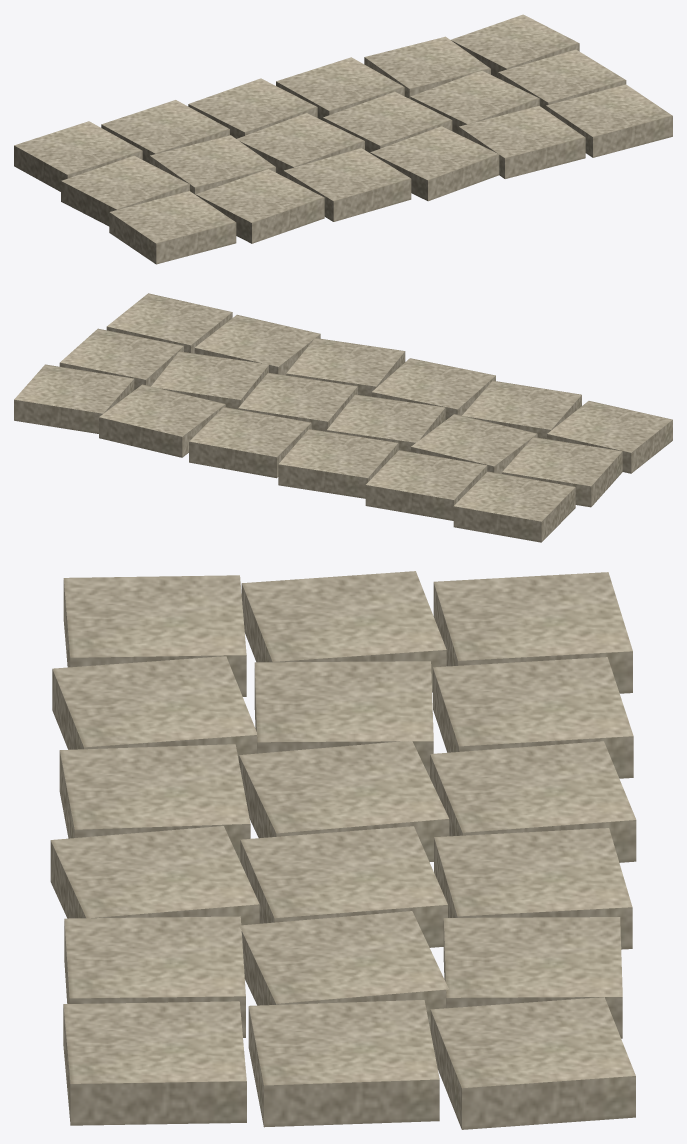
The model's file is roadStones.glb.
3 renders of one model, top to bottom at view 1: azimuth 30°, elevation 25°; view 2: azimuth 150°, elevation 25°; view 3: azimuth 270°, elevation 25°, orthographic. The views are drawn at different scales.
Visible parts, largest first — view 1: part_0; view 2: part_0; view 3: part_0.
Part boxes in pixels (x1,y1,x2,y2): part_0: (14, 14, 672, 264); part_0: (14, 293, 672, 542); part_0: (50, 571, 636, 1129).
Size of the model in its own units: 1.6 by 0.06 by 0.7641.
Materials: 1 (1 with a texture image).
